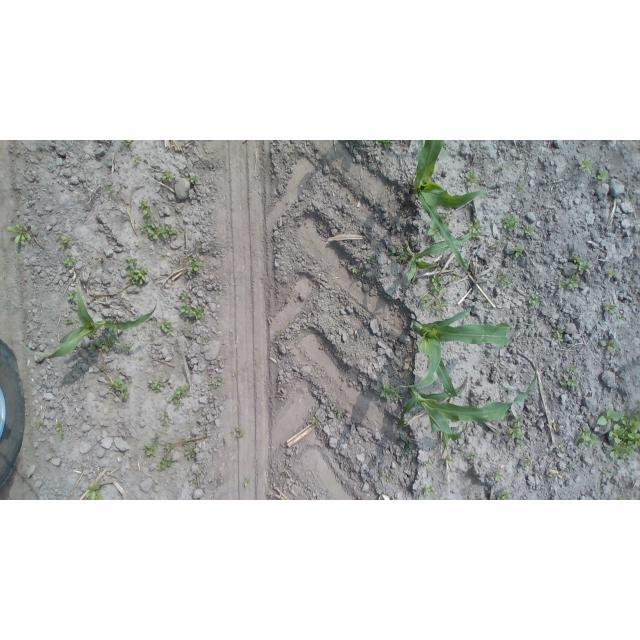Maize: (398, 362, 536, 458), (409, 140, 493, 276), (21, 280, 159, 361), (402, 308, 510, 398), (406, 233, 473, 288)
Weeds: (596, 400, 640, 460), (140, 219, 181, 241), (125, 255, 148, 290), (166, 384, 190, 409), (558, 365, 580, 390), (8, 224, 33, 245), (576, 426, 598, 449), (379, 382, 402, 403), (109, 379, 130, 402), (180, 301, 204, 321), (508, 415, 524, 441), (427, 275, 446, 296), (572, 252, 588, 276), (558, 274, 579, 291), (143, 436, 159, 458), (85, 481, 103, 500), (183, 436, 197, 460), (139, 200, 156, 219), (97, 336, 115, 353), (599, 338, 618, 354), (465, 169, 481, 187), (428, 221, 441, 242), (56, 234, 73, 250), (498, 273, 514, 290), (504, 215, 521, 231), (160, 318, 175, 336), (469, 221, 484, 239), (581, 155, 596, 173), (431, 301, 449, 316), (156, 456, 172, 472), (188, 255, 202, 273), (525, 295, 542, 309), (150, 378, 165, 393), (396, 245, 409, 262), (64, 251, 77, 267), (162, 170, 176, 183), (603, 302, 617, 315), (596, 170, 610, 183), (419, 294, 433, 307), (499, 488, 512, 500), (211, 378, 225, 389), (160, 411, 169, 428), (553, 327, 563, 342), (440, 214, 452, 226), (524, 224, 535, 237), (374, 141, 394, 148), (423, 486, 435, 497), (189, 172, 199, 185), (387, 246, 400, 256), (120, 140, 136, 148), (67, 290, 78, 301), (515, 243, 523, 258), (87, 343, 97, 354), (516, 181, 526, 192), (556, 443, 565, 455), (445, 456, 457, 465), (52, 422, 65, 430), (234, 427, 244, 437), (242, 476, 251, 487), (608, 268, 617, 279), (521, 459, 533, 467), (466, 452, 478, 460), (494, 470, 503, 480), (311, 416, 321, 425), (162, 444, 172, 453), (367, 256, 377, 265), (415, 141, 423, 152), (461, 256, 468, 268), (488, 241, 500, 248), (516, 442, 525, 451), (123, 344, 132, 353), (180, 292, 189, 300), (132, 155, 141, 163), (64, 319, 75, 325), (386, 476, 394, 484), (452, 272, 460, 280), (501, 164, 508, 173), (337, 412, 344, 420), (350, 267, 358, 274), (549, 471, 558, 477), (376, 473, 385, 479), (602, 471, 609, 478), (35, 422, 42, 429), (106, 187, 113, 194), (441, 146, 448, 153), (424, 461, 432, 467), (88, 333, 96, 339), (60, 433, 65, 442), (203, 337, 209, 343), (618, 315, 623, 321), (384, 295, 391, 299), (617, 497, 624, 500), (481, 498, 488, 500), (276, 333, 280, 336)
